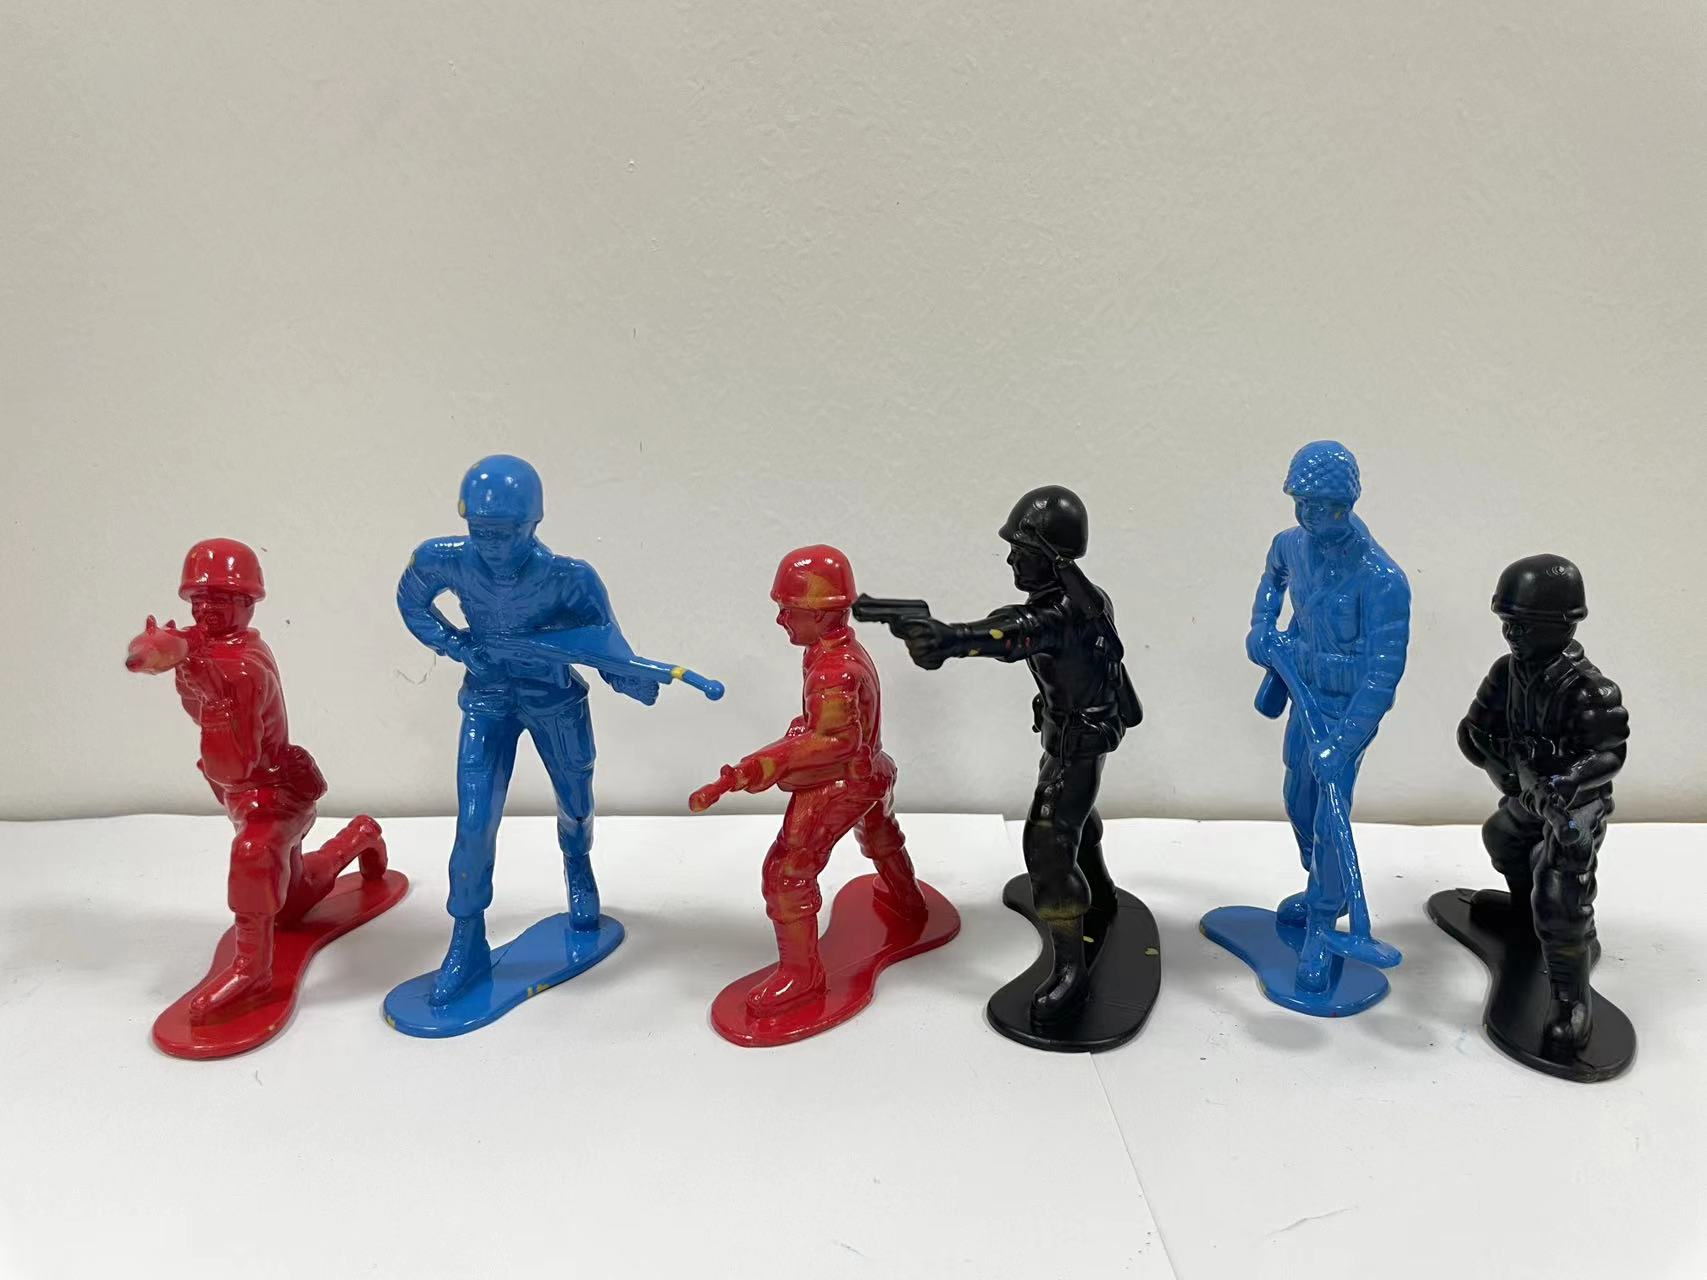black: (888, 445, 1191, 1077), (1421, 510, 1676, 1112)
blue: (401, 424, 685, 1059), (1227, 372, 1425, 1055)
red: (65, 503, 413, 1123), (727, 510, 931, 1053)
